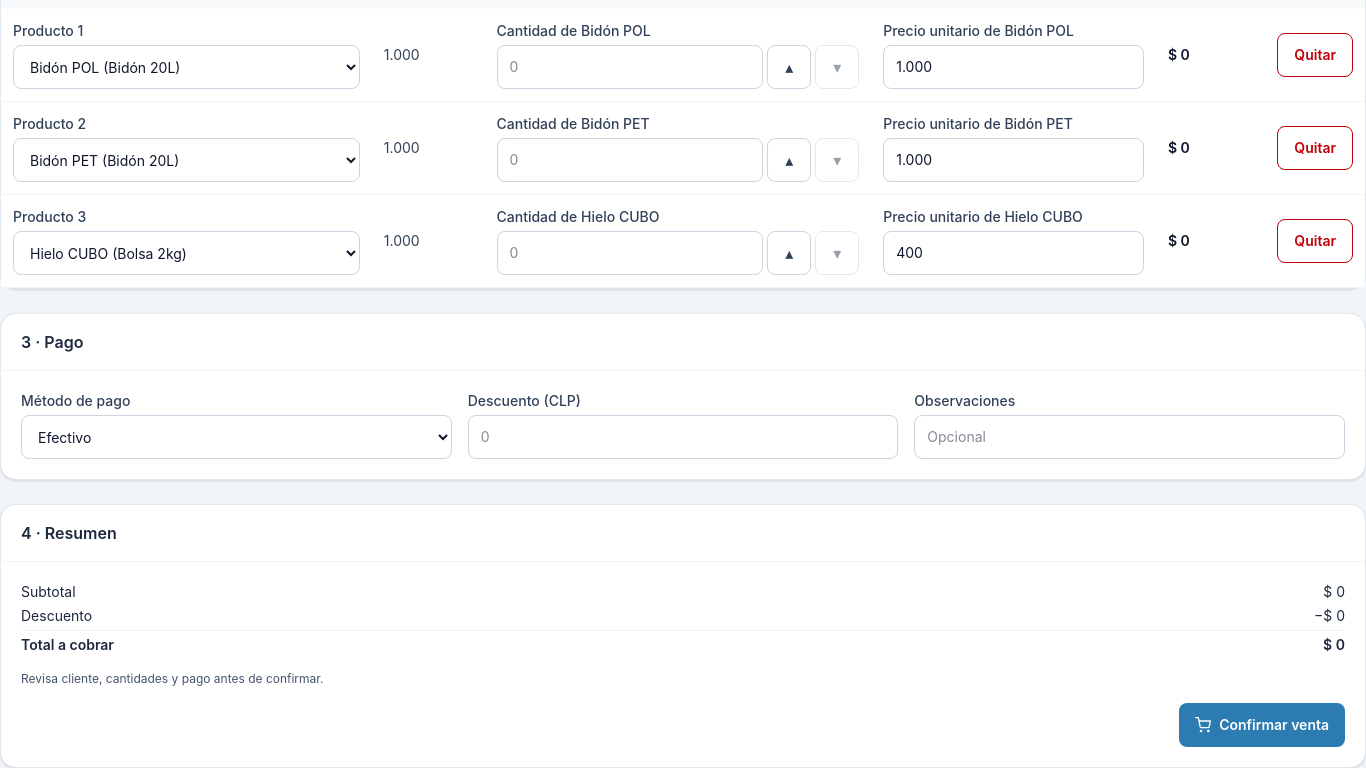
Test: A1-12 · cliente inválido conserva nombre, descripción y foco RHF
(page scrolled)
Click the button "Confirmar venta": (1262, 725) 1179,703 -> 1345,747
(page scrolled)
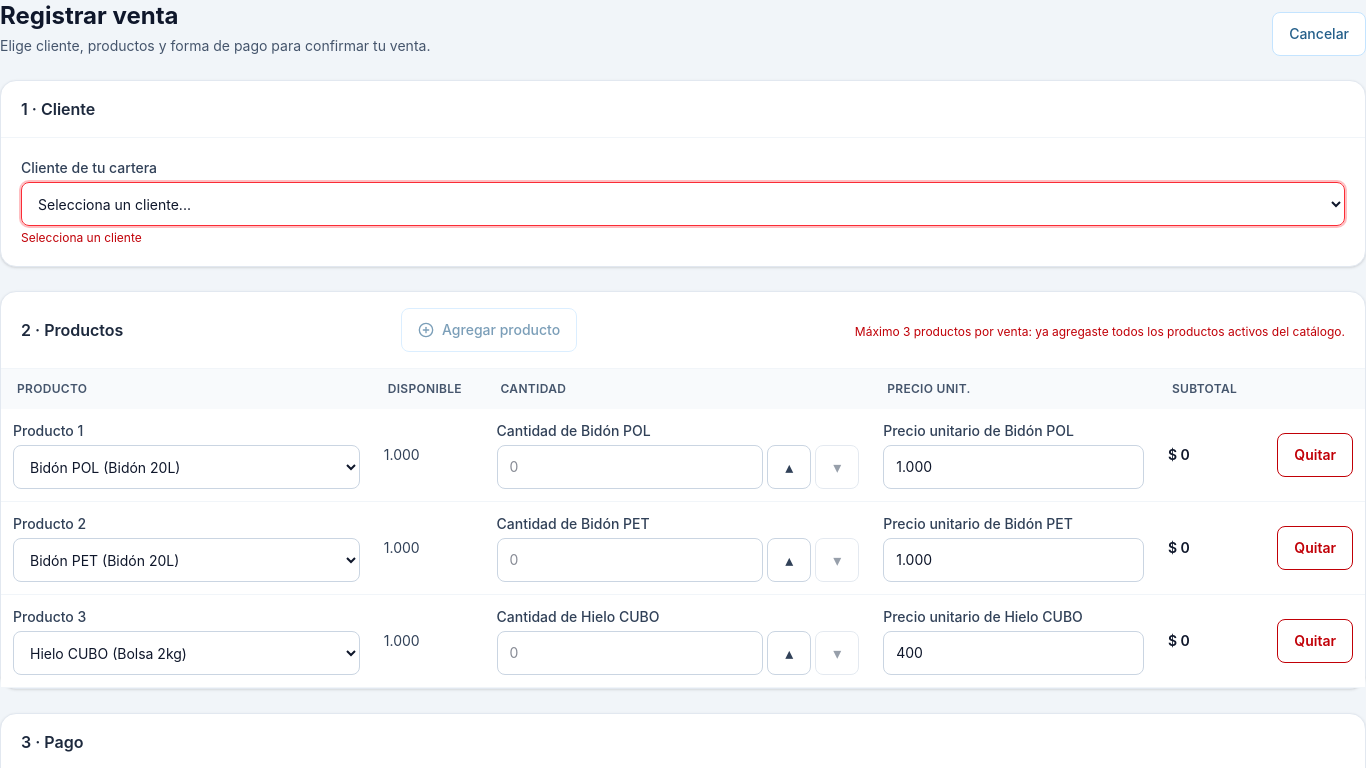
Now the text "Selecciona un cliente" is shown, box 21,230 -> 142,245
